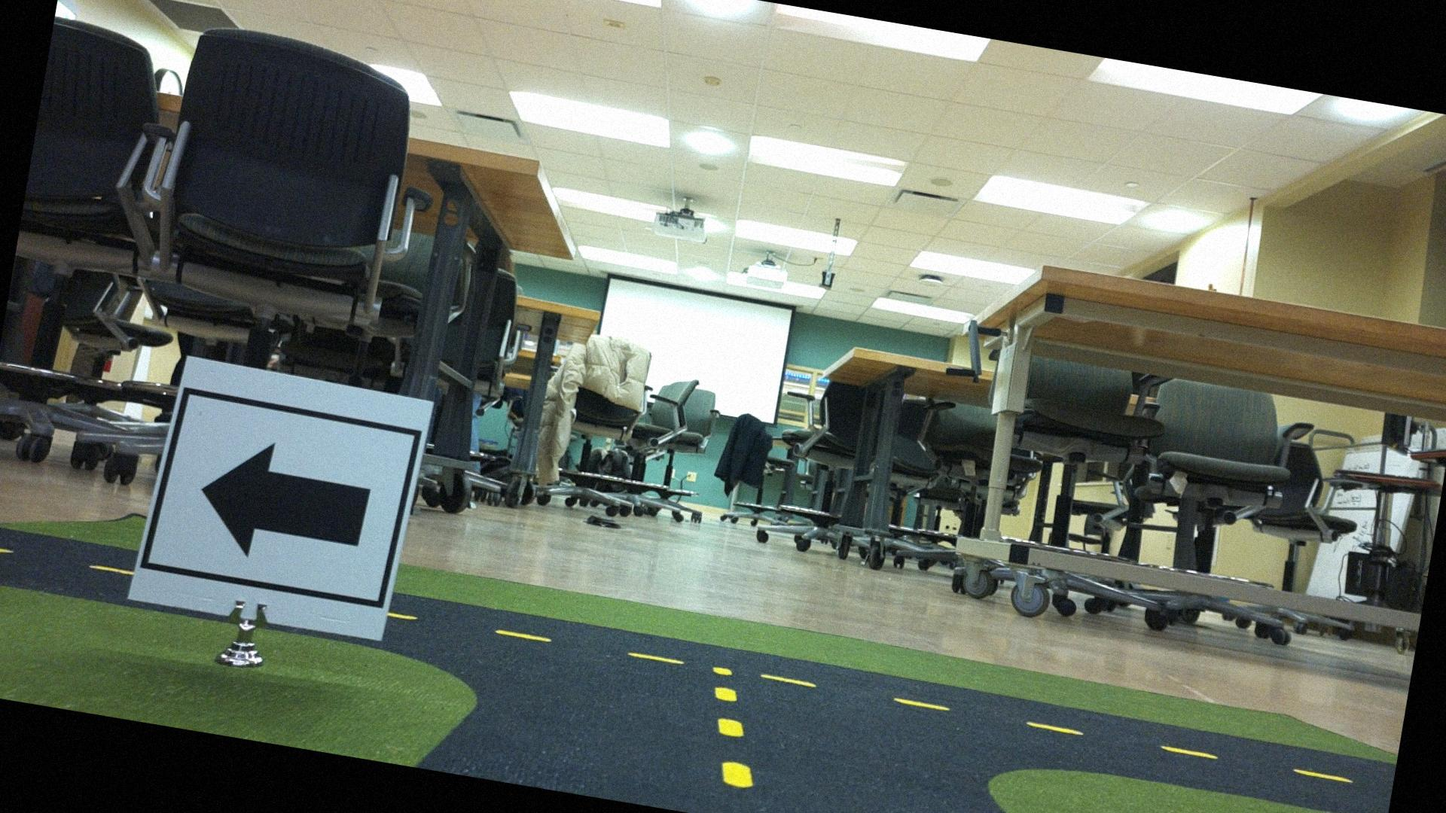turnleft: (142, 361, 425, 627)
yellowline: (401, 611, 1353, 783), (697, 682, 767, 792)
